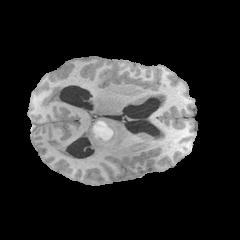glioma: (87, 117, 166, 150)
